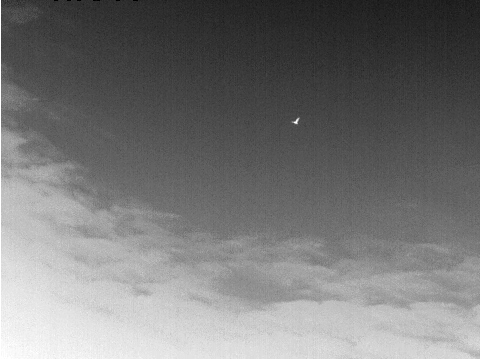dim target: (291, 117, 301, 125)
